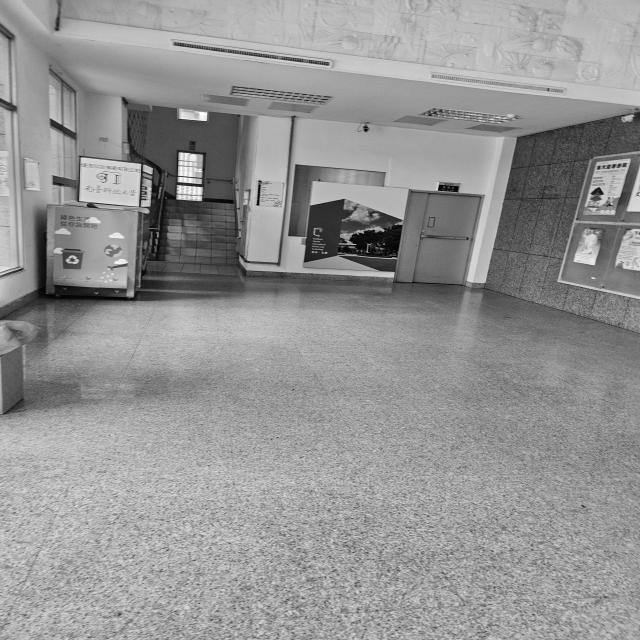Road-Object: (0, 275, 638, 640)
floor: (147, 199, 237, 275)
